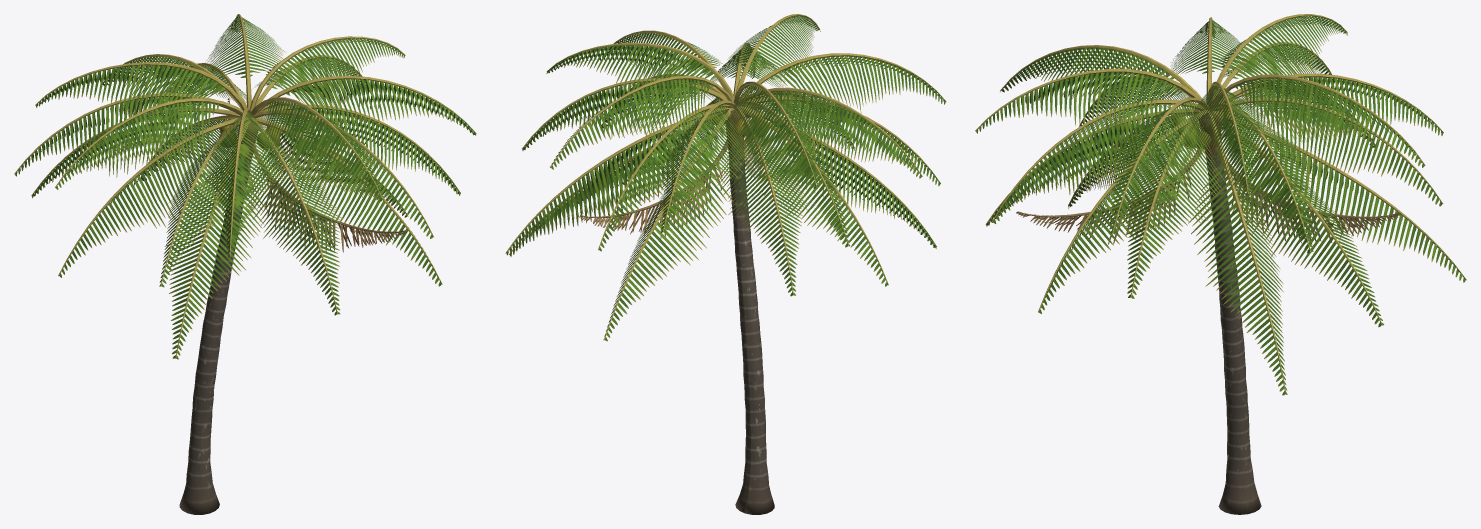
The model's file is CoconutPalm_B.gltf.
3 views of the same model, side by side, from view 1: azimuth 30°, elevation 25°; view 2: azimuth 150°, elevation 25°; view 3: azimuth 270°, elevation 25° (orthographic). The views are drawn at different scales.
Parts seen in each view (by area): view 1: CoconutPalm_B; view 2: CoconutPalm_B; view 3: CoconutPalm_B.
Boxes of the visible parts, x1=… form: CoconutPalm_B: x1=14, y1=14, x2=476, y2=514; CoconutPalm_B: x1=505, y1=14, x2=946, y2=514; CoconutPalm_B: x1=975, y1=14, x2=1466, y2=514.
Bounding box in the file's own units: 7.66 × 8.32 × 7.91.
Materials: 3 (3 with a texture image).
